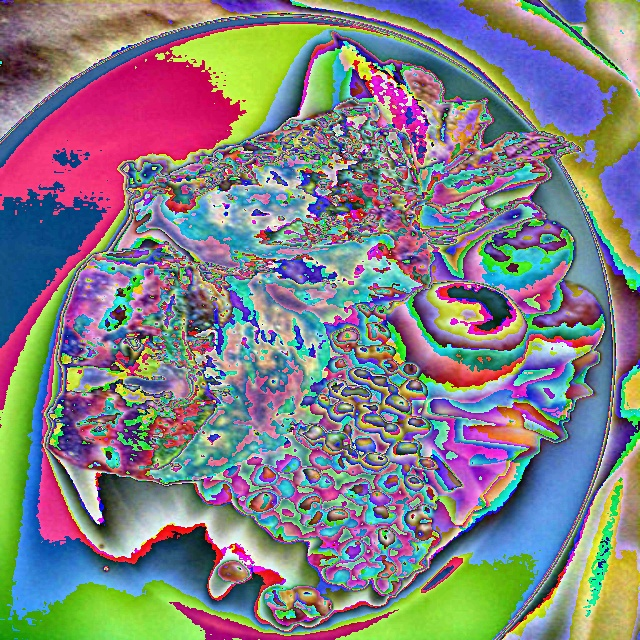background: (47, 30, 608, 594), (72, 39, 333, 623), (31, 23, 249, 582)
